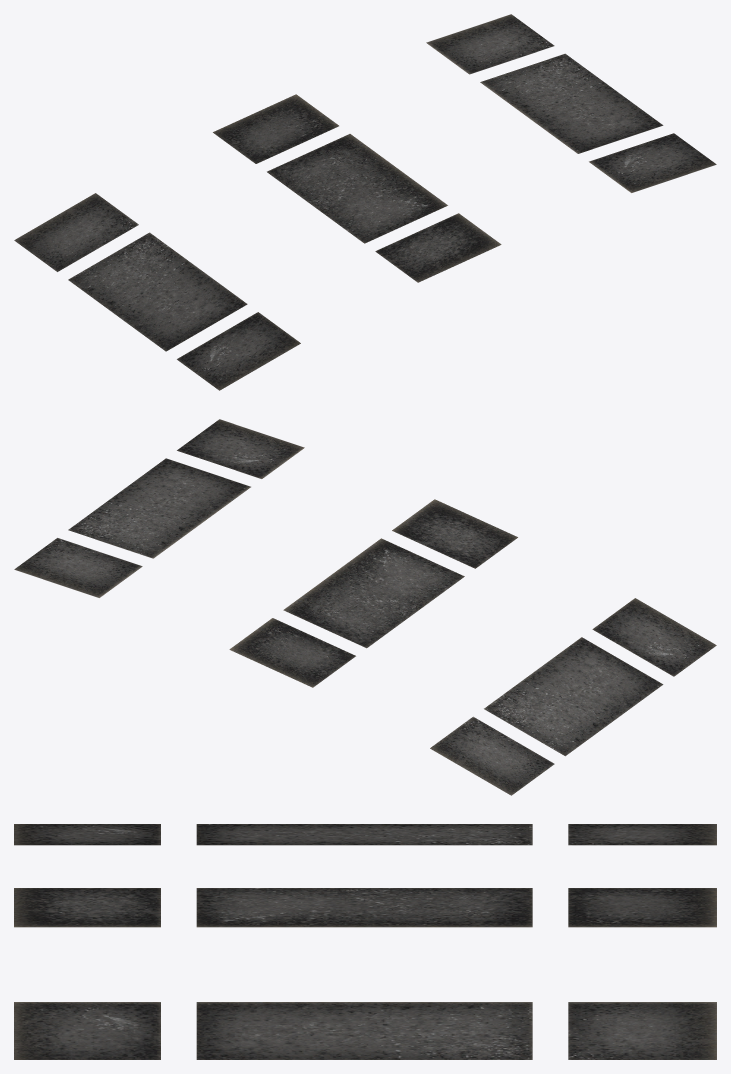
Rendered from SM_RoofGlass2.FBX.
3 views of the same model, one above another, from view 1: azimuth 30°, elevation 25°; view 2: azimuth 150°, elevation 25°; view 3: azimuth 270°, elevation 25° (orthographic). The views are drawn at different scales.
Parts seen in each view (by area): view 1: SM_RoofGlass2; view 2: SM_RoofGlass2; view 3: SM_RoofGlass2.
Boxes of the visible parts, box(x1,y1,x2,y2) form: SM_RoofGlass2: box(14, 14, 716, 390); SM_RoofGlass2: box(14, 419, 716, 795); SM_RoofGlass2: box(14, 824, 716, 1059).
Size of the model in its own units: 476 by 341 by 95.88.
